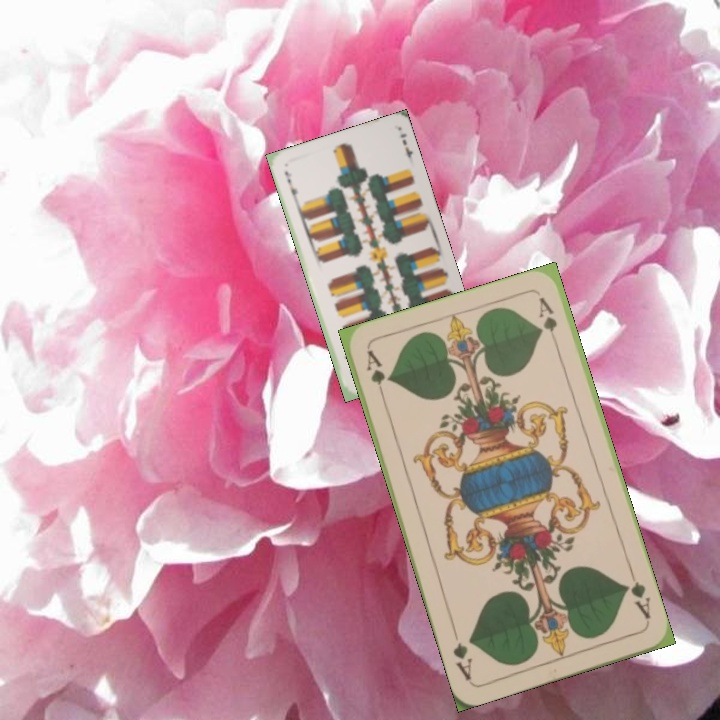E7: (281, 167, 301, 204)
GA: (620, 567, 654, 625), (362, 346, 389, 404)
